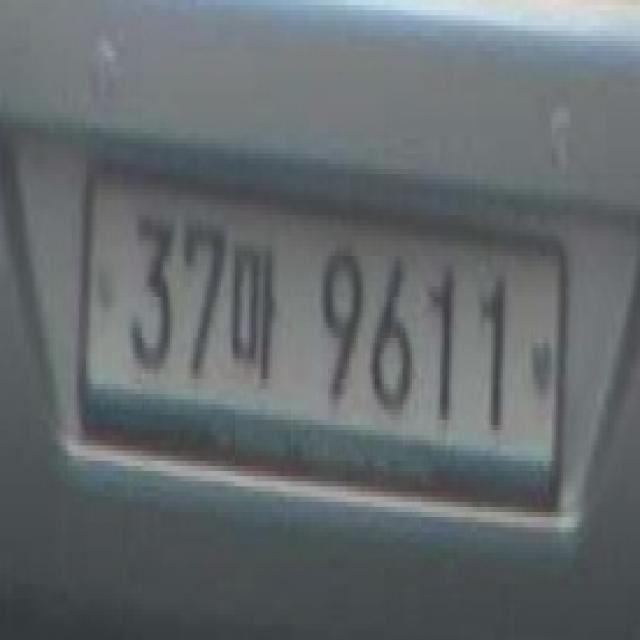1: (428, 266, 461, 425), (477, 272, 507, 436)
3: (135, 210, 177, 369)
6: (368, 256, 412, 415)
7: (179, 220, 228, 379)
9: (321, 246, 363, 404)
license_plate: (77, 164, 568, 517)
ma: (230, 236, 280, 384)
